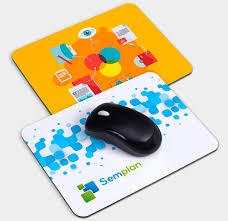mouse: (82, 98, 164, 163)
